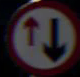Two way: (20, 12, 68, 61)
